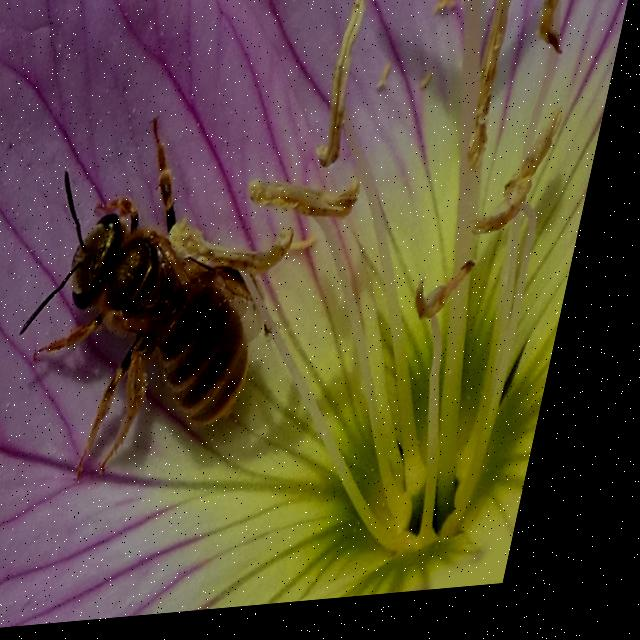Lasioglossum: (0, 102, 335, 549)
